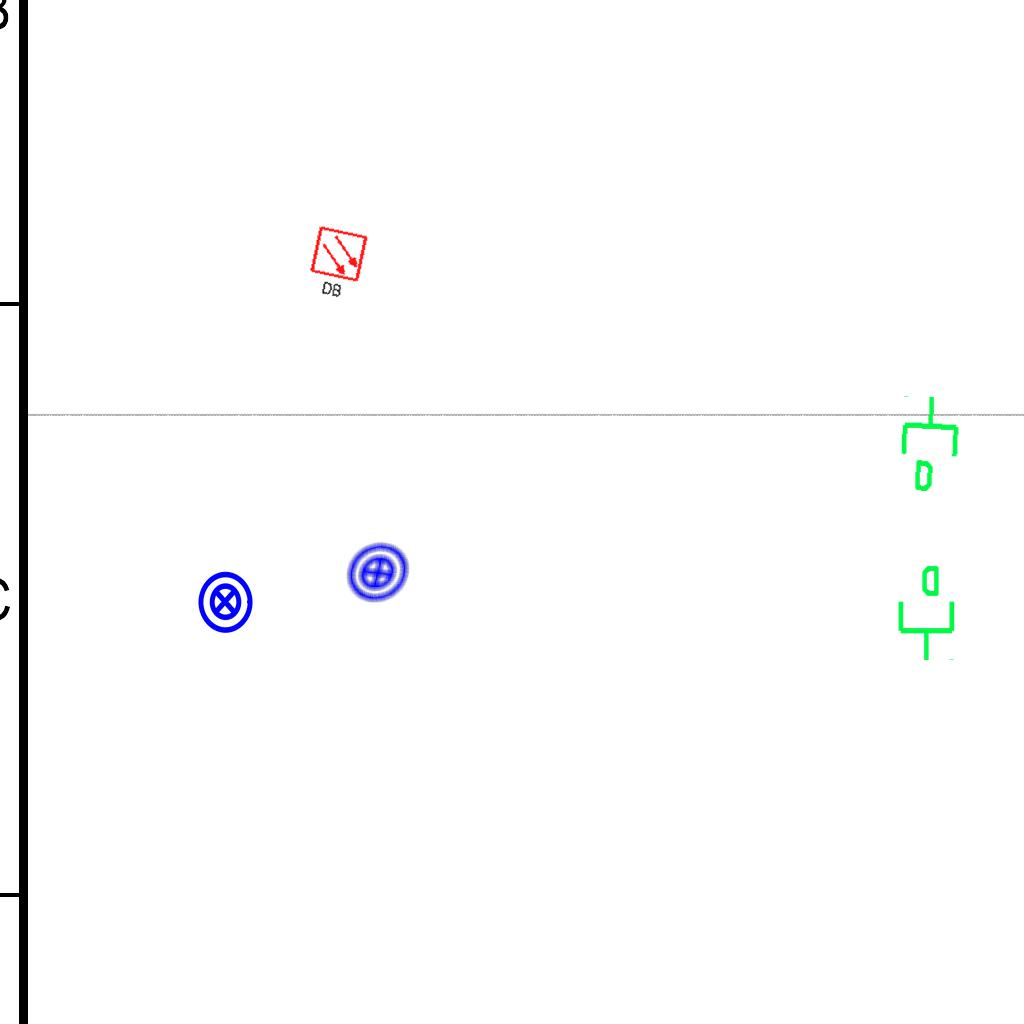DB_Melder_in_Doppelboden_mit_Revisionsoeffnung_mind_40_x_40_cm: (301, 221, 374, 307)
Datenanschluss_einfach: (894, 392, 969, 496), (890, 563, 959, 663)
Taster_beleuchtet: (332, 527, 424, 619), (192, 569, 258, 635)
